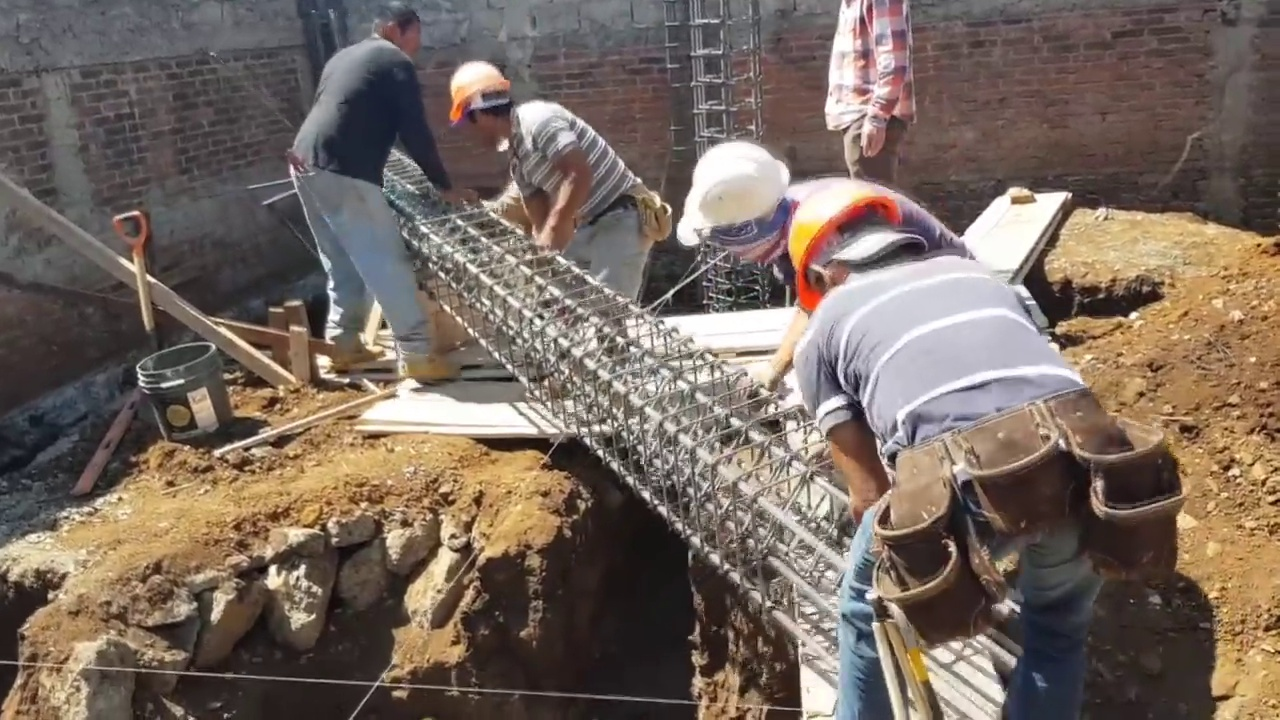helmet: (787, 176, 903, 314), (684, 139, 788, 233), (444, 64, 501, 121)
helmet-off: (367, 5, 424, 60)
helmet-on: (782, 180, 936, 320), (671, 135, 798, 271), (446, 62, 518, 149)
person: (760, 171, 1180, 688), (284, 5, 467, 412), (443, 63, 662, 310), (824, 4, 919, 177)
